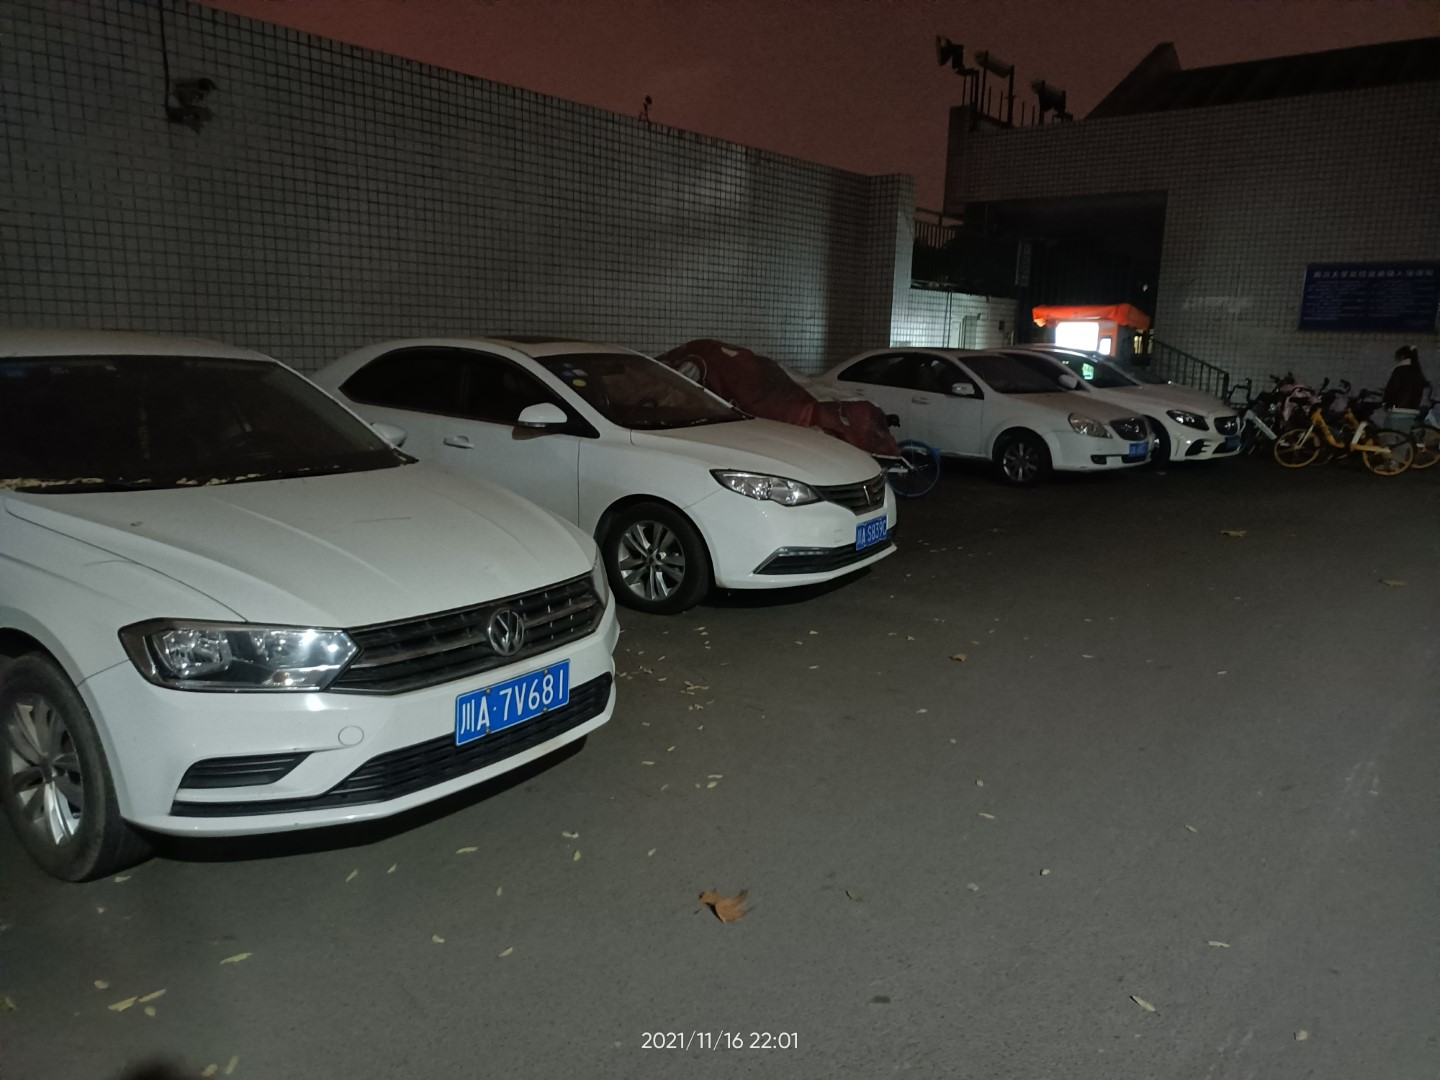plate: (455, 658, 570, 746), (856, 513, 887, 550)
